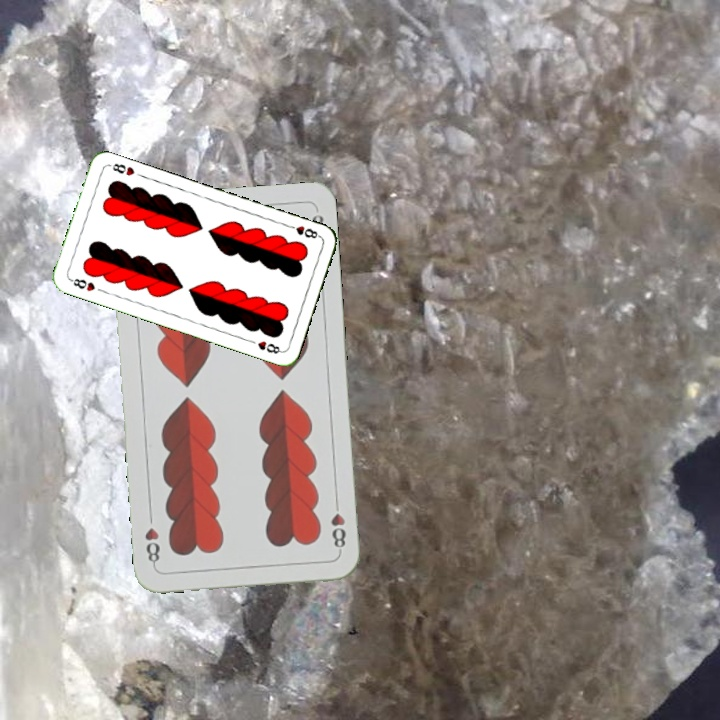H8: (327, 496, 348, 555), (283, 221, 323, 241), (66, 274, 98, 294)
